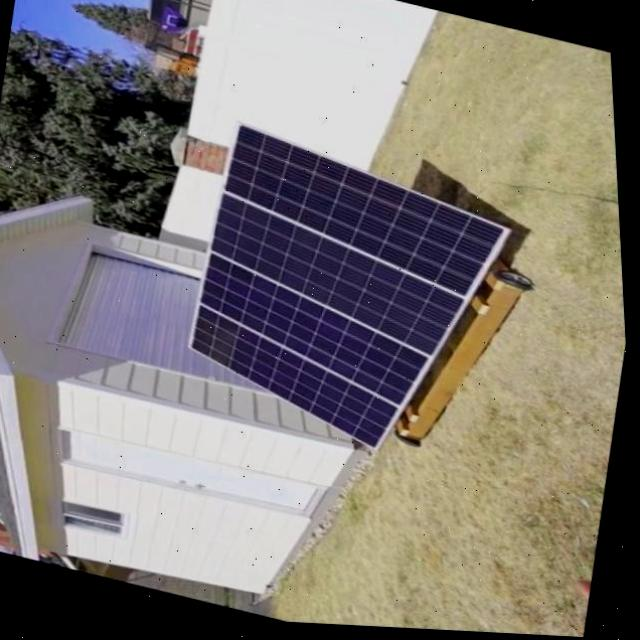Normal Solar Panel: (172, 123, 532, 478)
